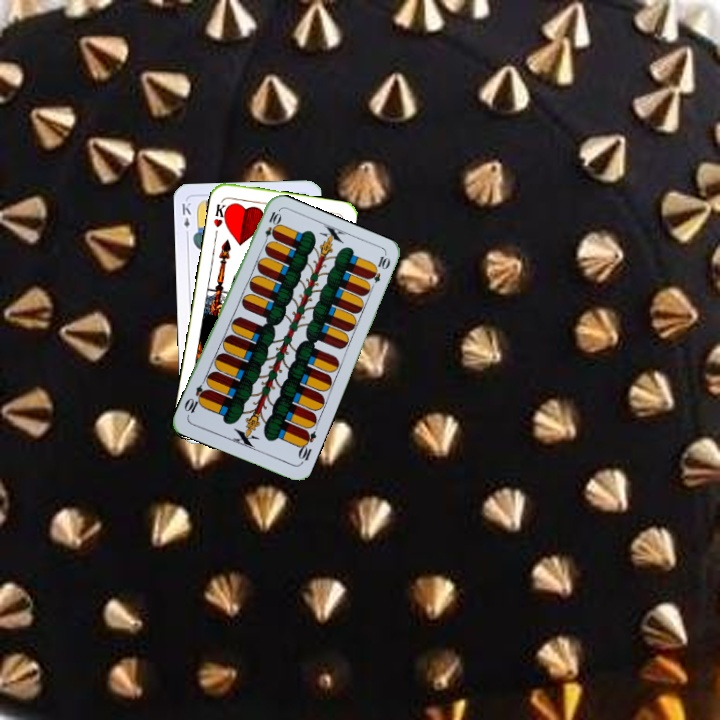E10: (294, 426, 319, 466), (259, 207, 282, 248)
EK: (178, 198, 194, 239)
HK: (210, 196, 232, 230)
